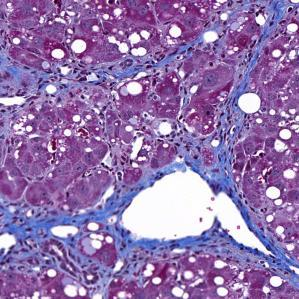fibrosis: (14, 198, 130, 270), (179, 128, 241, 180)
